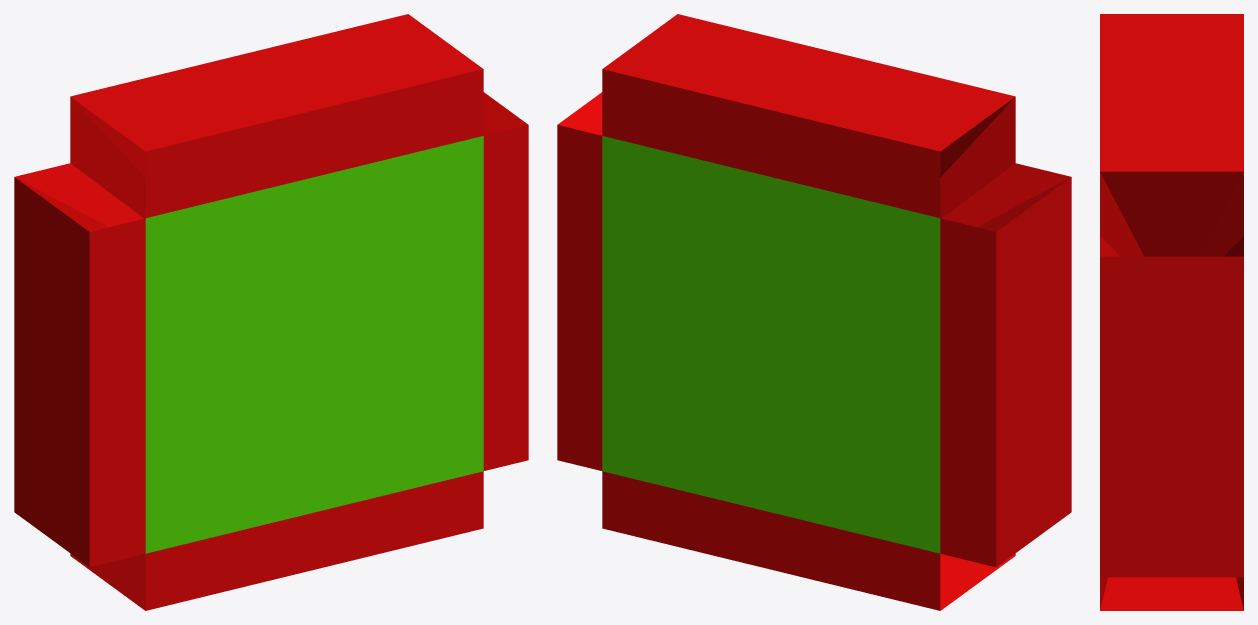
The model's file is HealthItemMesh.fbx.
The picture shows the model from 3 angles, left to right: view 1: azimuth 30°, elevation 25°; view 2: azimuth 150°, elevation 25°; view 3: azimuth 270°, elevation 25°; orthographic projection. The views are drawn at different scales.
Visible parts, largest first — view 1: pCube1; view 2: pCube1; view 3: pCube1.
Boxes of the visible parts, x1=… form: pCube1: x1=14, y1=14, x2=528, y2=610; pCube1: x1=557, y1=14, x2=1071, y2=610; pCube1: x1=1100, y1=14, x2=1243, y2=610.
Size of the model in its own units: 308 by 308 by 91.37.
